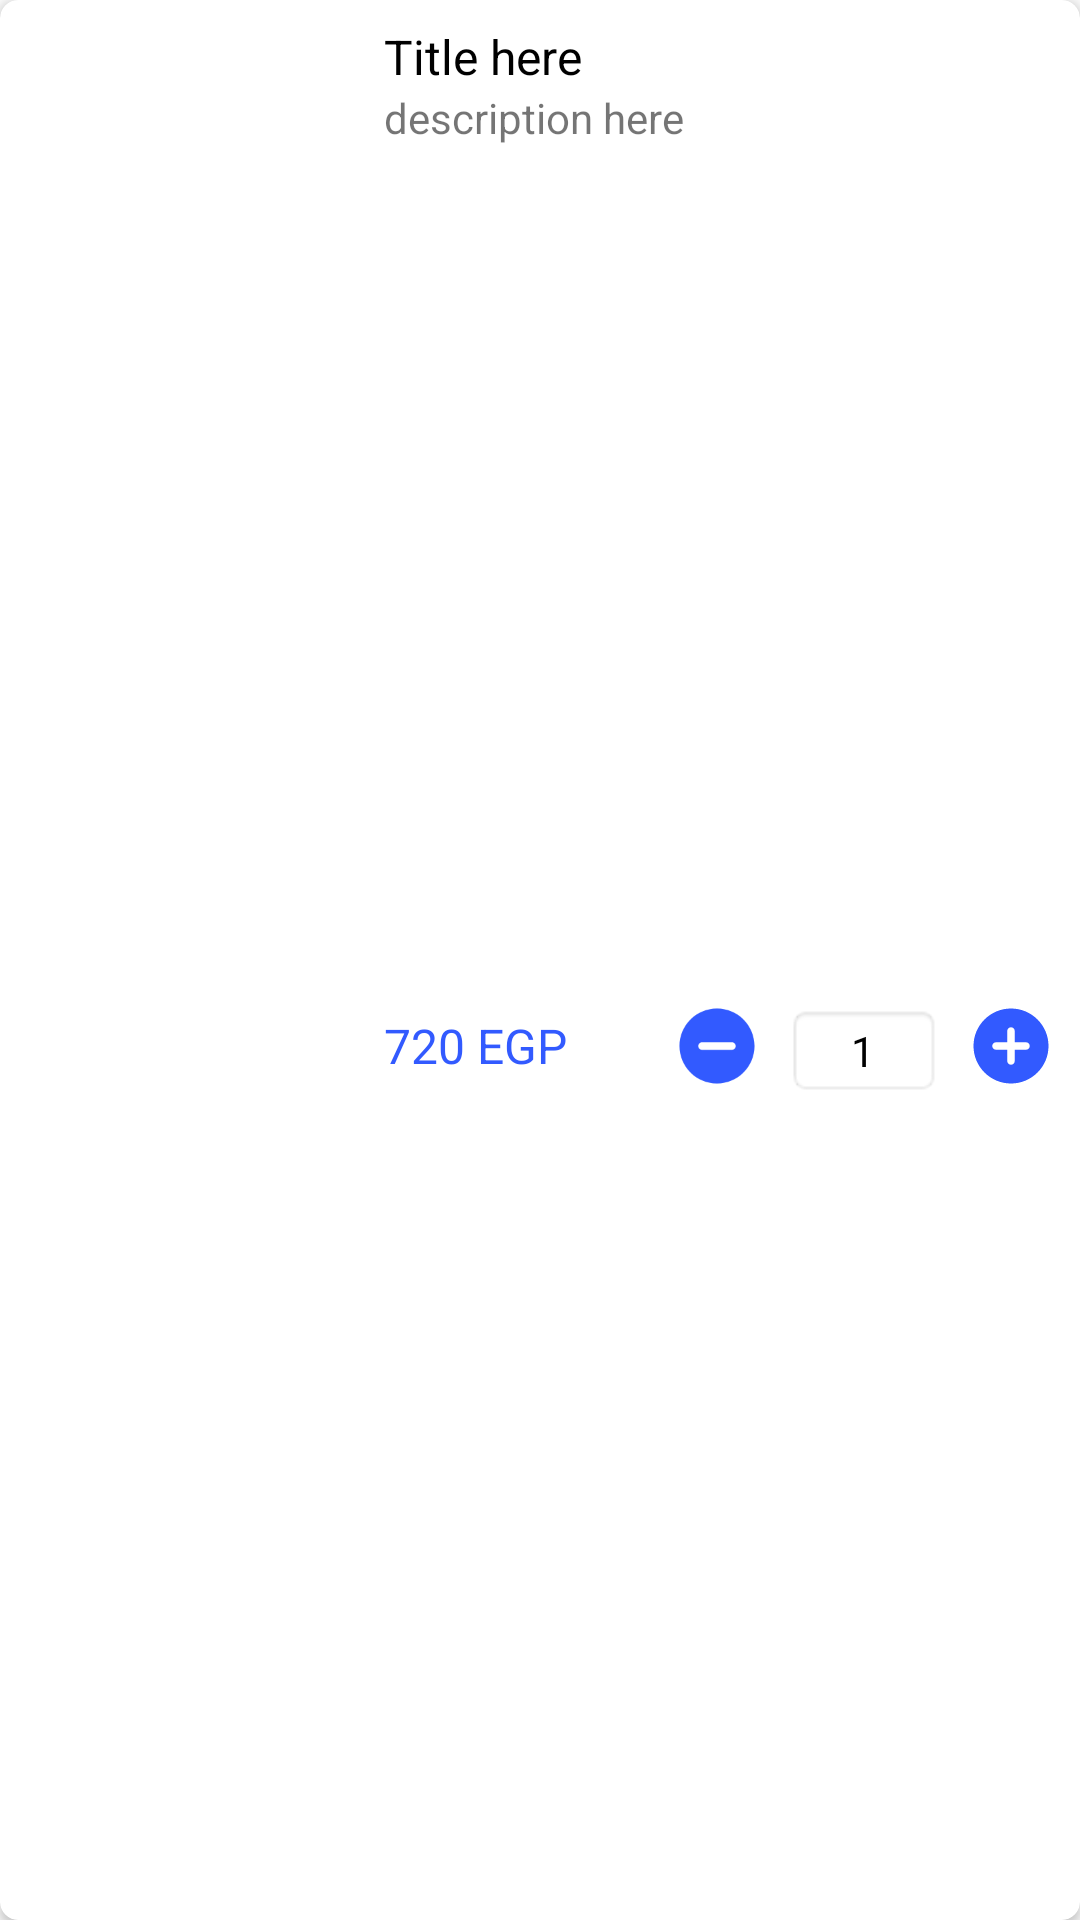

Point at icon controls on the screen. Image size 1080 x 1920, points as point (x, y).
add circle: point (1011, 1046)
remove circle: point (717, 1046)
